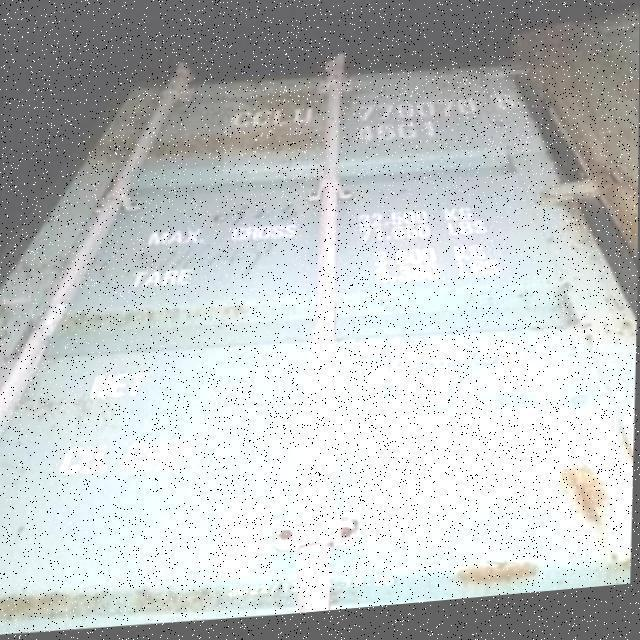ISO: (354, 118, 452, 160)
container_number: (216, 85, 512, 128)
